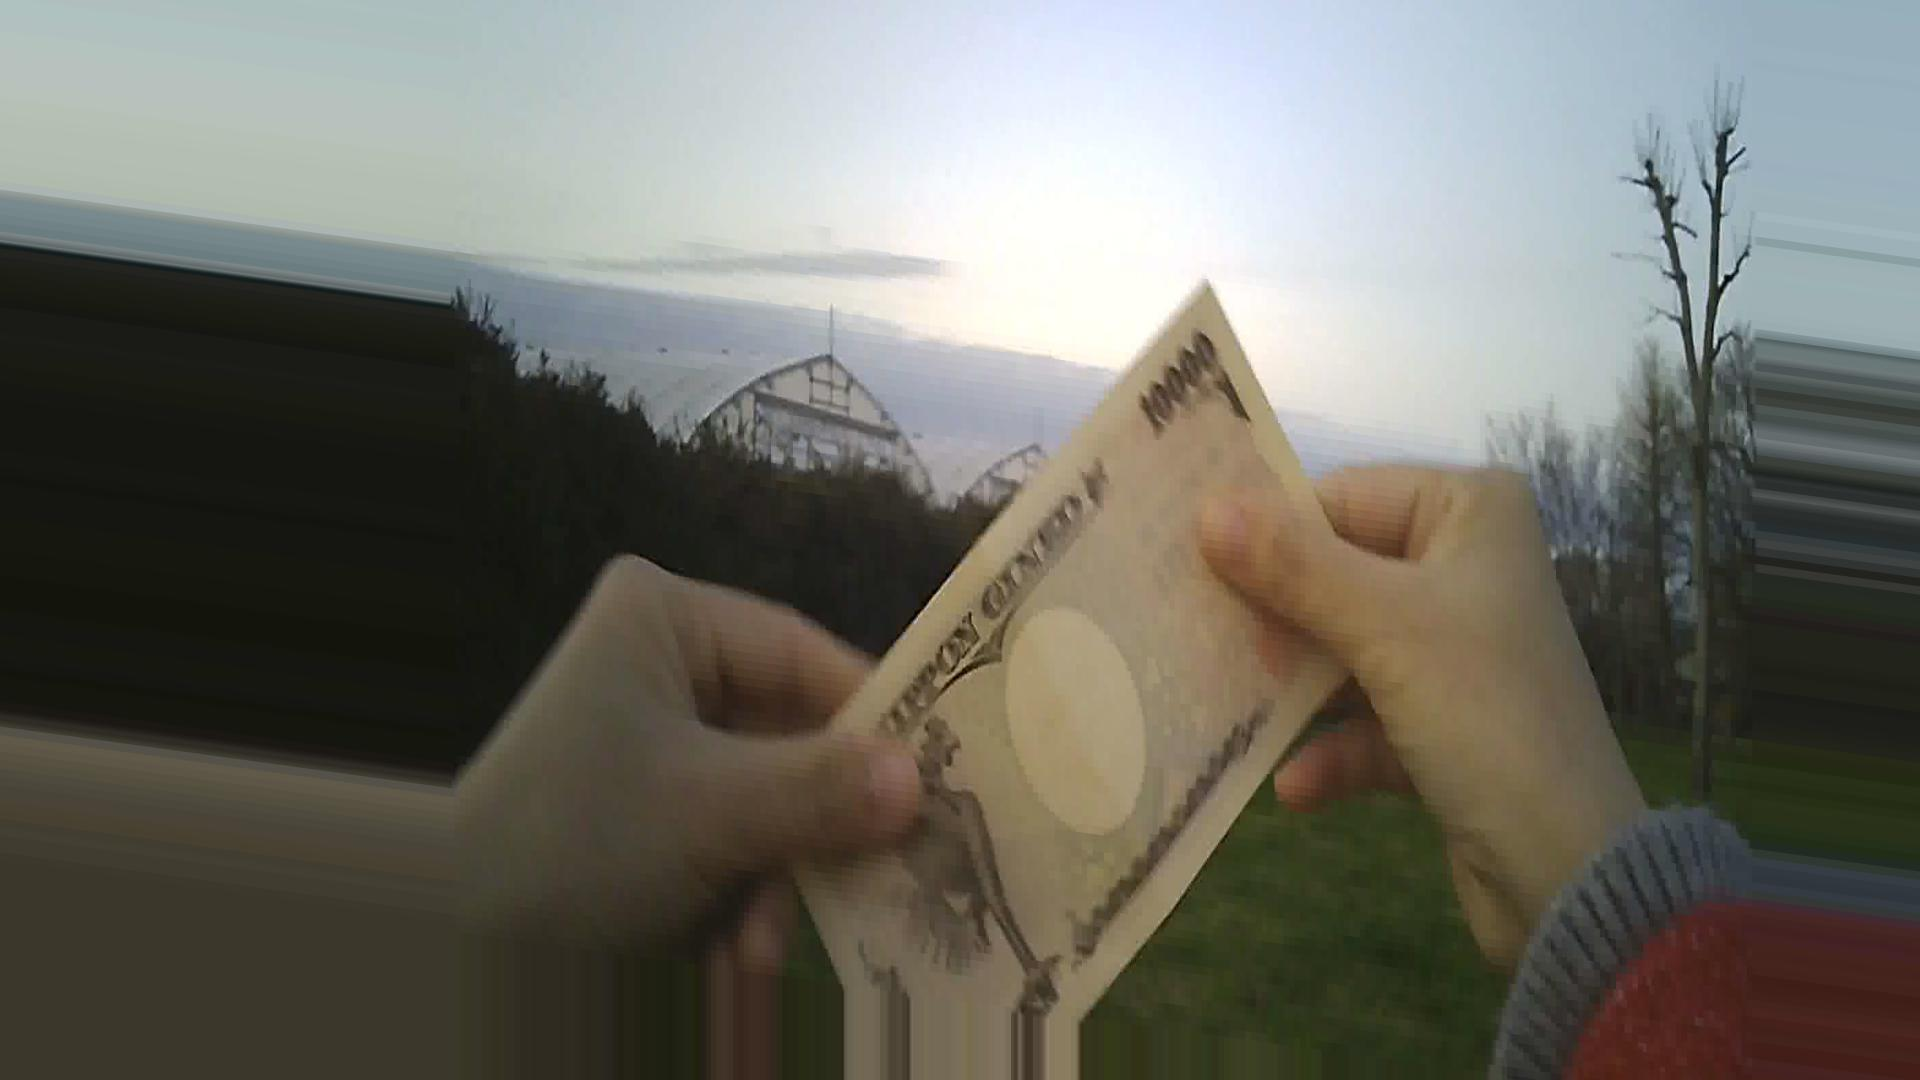10,000 Yen: (727, 227, 1360, 1011)
